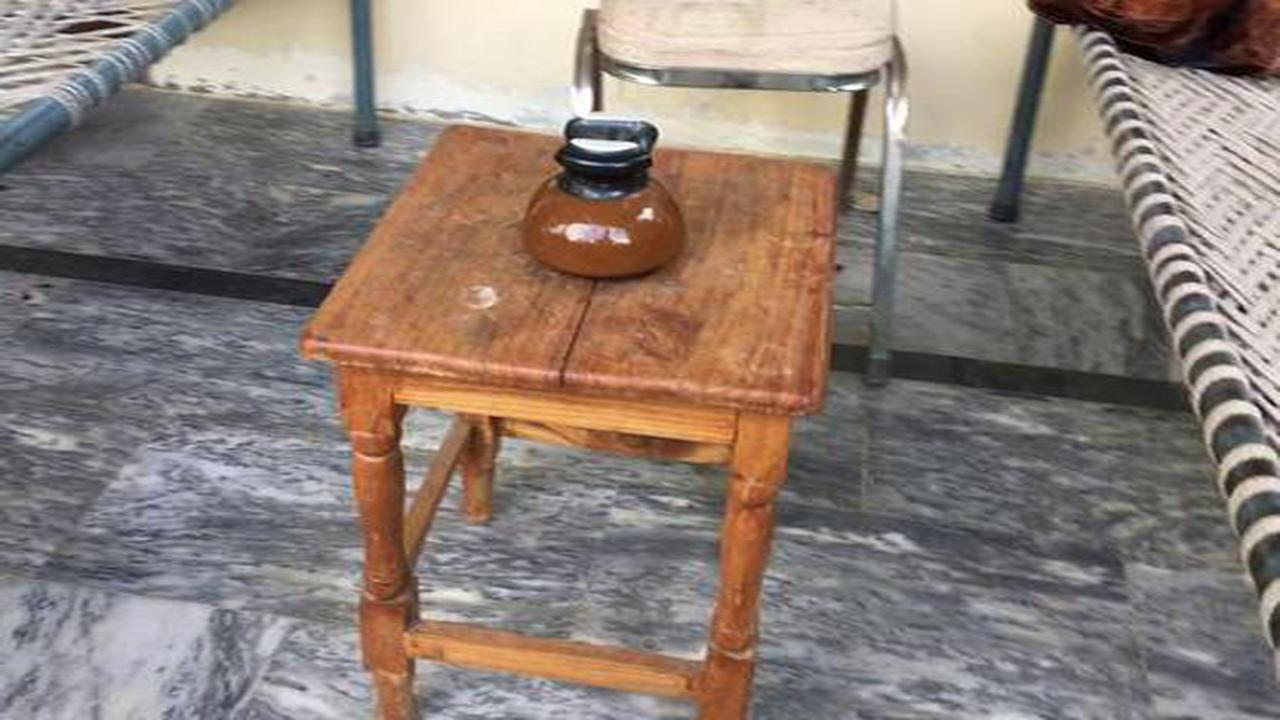insulator_pin: (502, 103, 705, 290)
